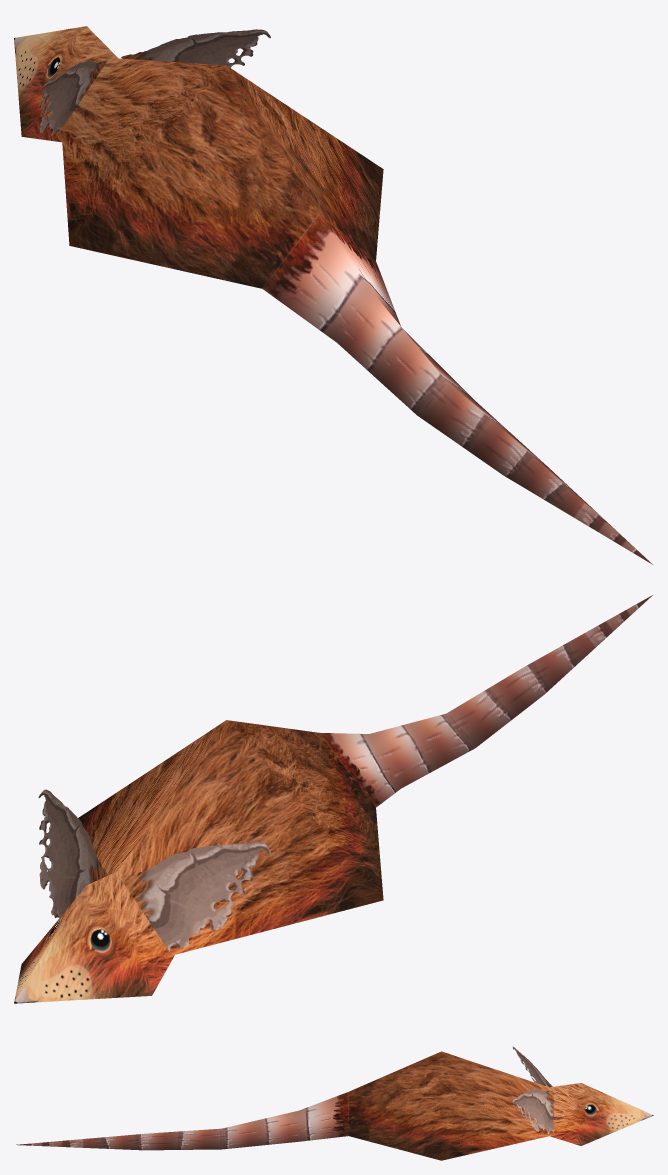
Rendered from rat.fbx.
3 renders of one model, top to bottom at view 1: azimuth 30°, elevation 25°; view 2: azimuth 150°, elevation 25°; view 3: azimuth 270°, elevation 25°, orthographic. The views are drawn at different scales.
Visible parts, largest first — view 1: polySurface1; view 2: polySurface1; view 3: polySurface1.
Boxes of the visible parts, box(x1,y1,x2,y2) form: polySurface1: box(14, 26, 652, 564); polySurface1: box(14, 595, 652, 1003); polySurface1: box(16, 1046, 653, 1160).
Bounding box in the file's own units: 1.96 × 1.11 × 6.9.
